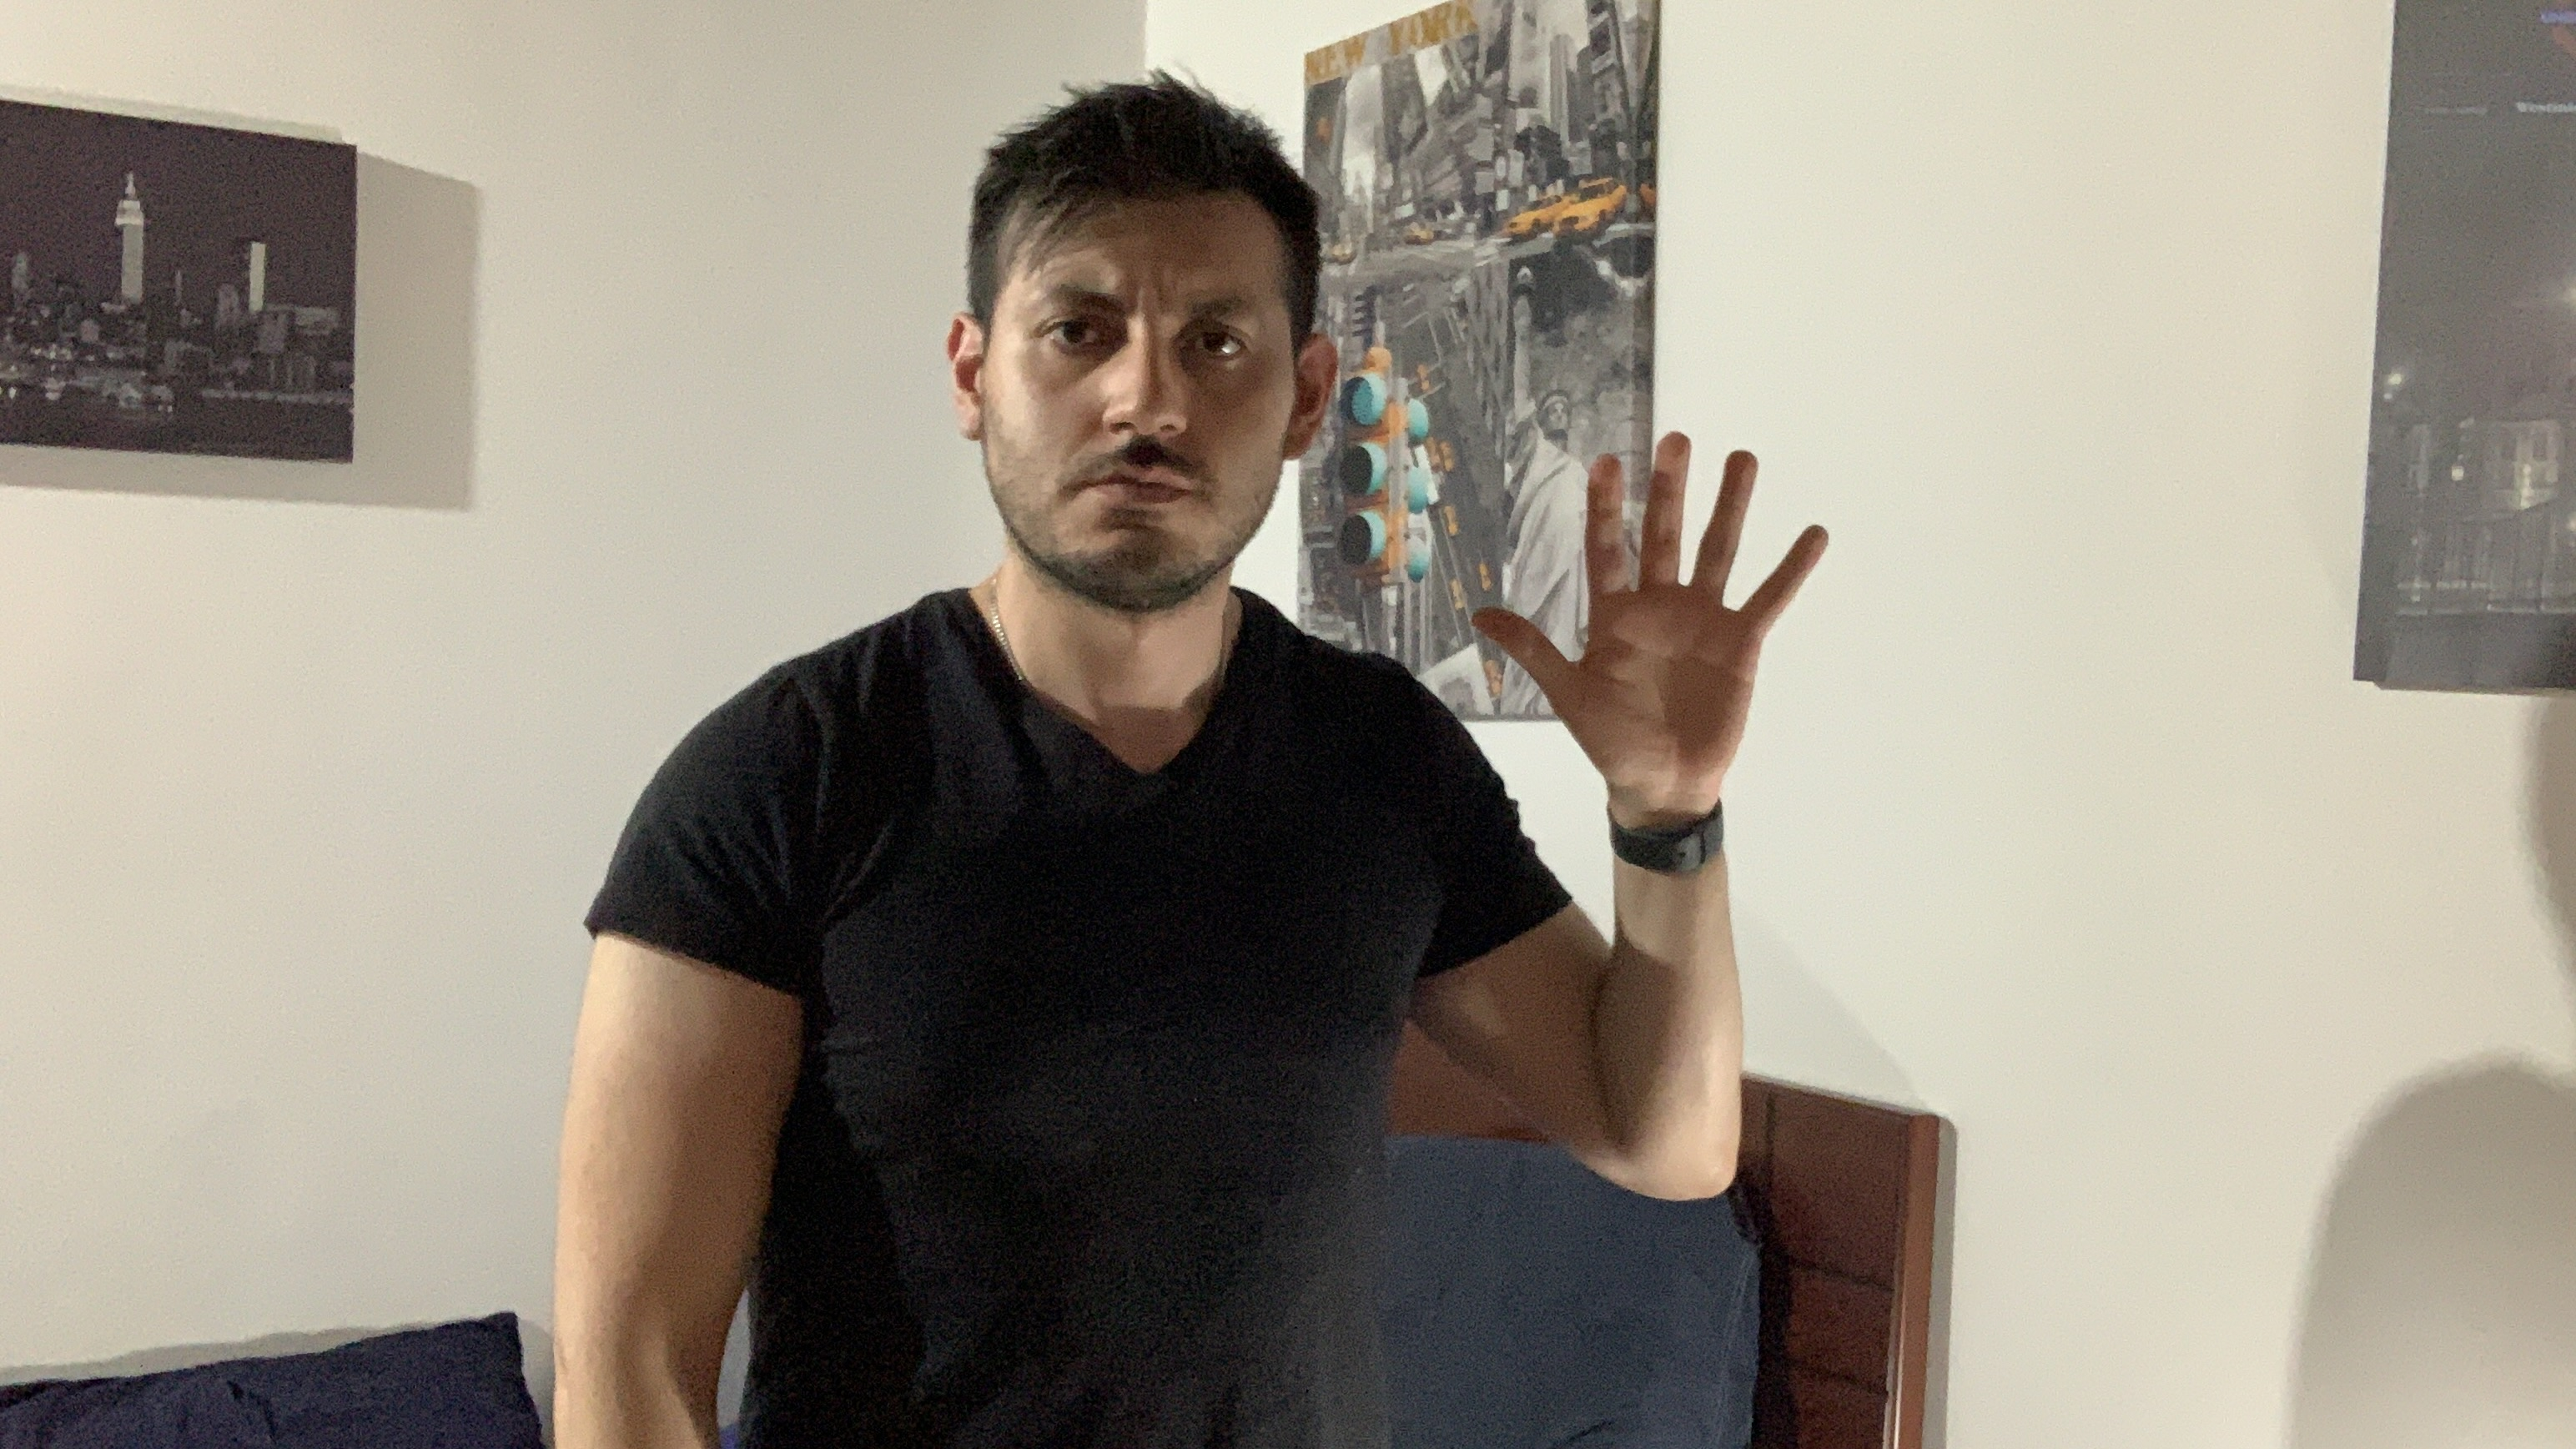Hello: (1463, 425, 1852, 812)
